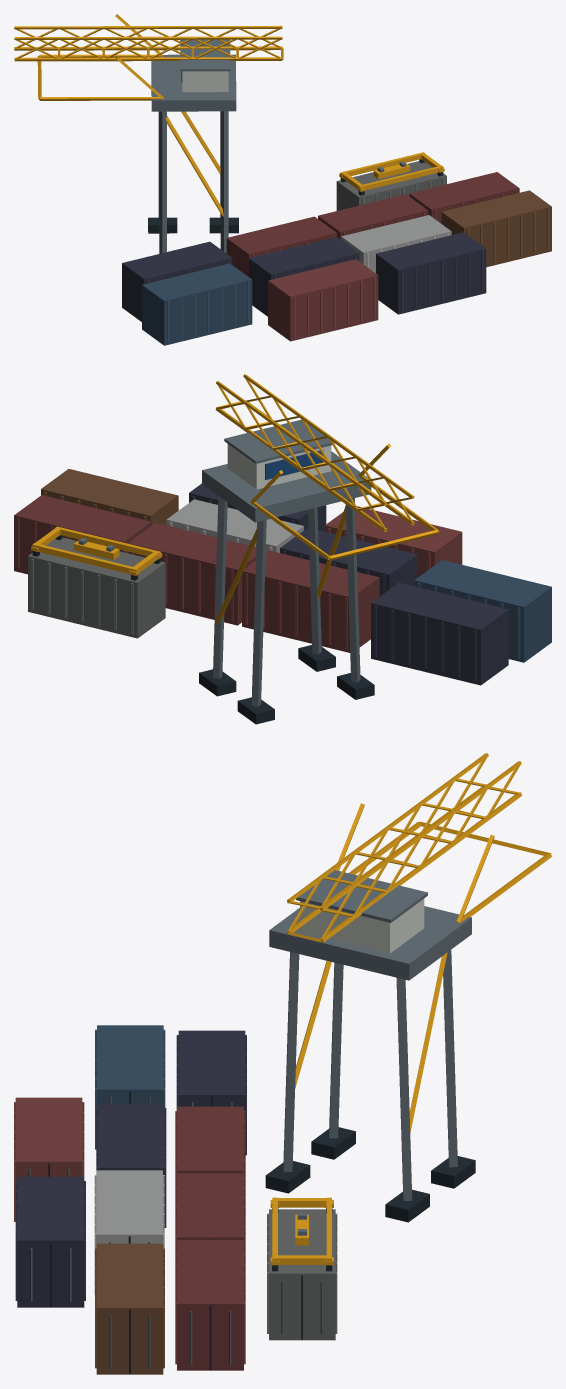
Rendered from gantry-crane-e-w-10.glb.
The picture shows the model from 3 angles, top to bottom: view 1: azimuth 30°, elevation 25°; view 2: azimuth 150°, elevation 25°; view 3: azimuth 270°, elevation 25°; orthographic projection. The views are drawn at different scales.
Visible parts, largest first — view 1: gantry-crane-e-w-10; view 2: gantry-crane-e-w-10; view 3: gantry-crane-e-w-10.
Part boxes in pixels (x1,y1,x2,y2): gantry-crane-e-w-10: (14, 14, 551, 345); gantry-crane-e-w-10: (14, 374, 551, 724); gantry-crane-e-w-10: (14, 753, 551, 1374).
Size of the model in its own units: 61.28 by 31.18 by 46.76.
